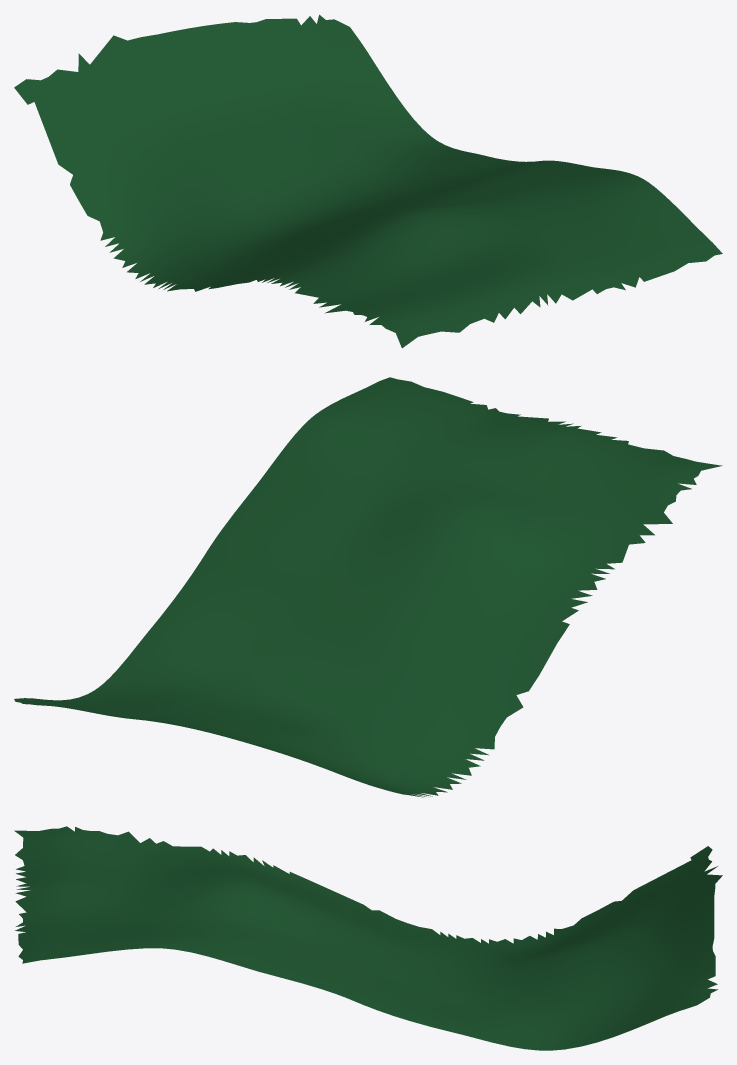
Rendered from payo_land_xm5_y1.glb.
The picture shows the model from 3 angles, top to bottom: view 1: azimuth 30°, elevation 25°; view 2: azimuth 150°, elevation 25°; view 3: azimuth 270°, elevation 25°; orthographic projection. The views are drawn at different scales.
Visible parts, largest first — view 1: payo_land_xm5_y1; view 2: payo_land_xm5_y1; view 3: payo_land_xm5_y1.
Part boxes in pixels (box(x1,y1,x2,y2)): payo_land_xm5_y1: box(14, 14, 722, 348); payo_land_xm5_y1: box(14, 377, 722, 797); payo_land_xm5_y1: box(14, 826, 722, 1050).
Size of the model in its own units: 131 by 55.74 by 262.
